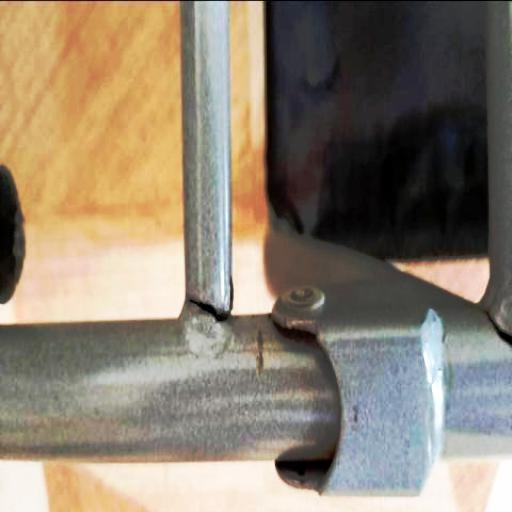crack: (177, 268, 244, 343), (463, 298, 512, 364)
